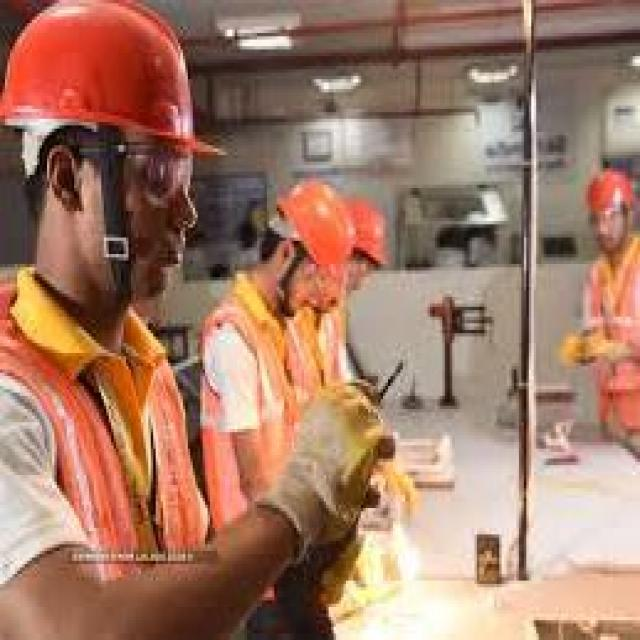Reflective-Jacket: (3, 287, 210, 630), (188, 277, 341, 610), (568, 231, 640, 425)
Safety-Helmet: (0, 0, 225, 175), (245, 168, 398, 297), (573, 155, 640, 238)
